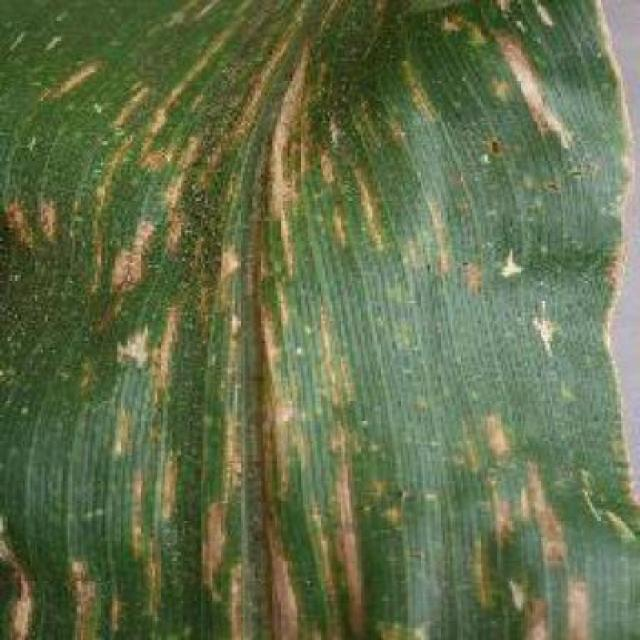Corn_Grey_Leaf_Spot: (2, 0, 624, 640)
